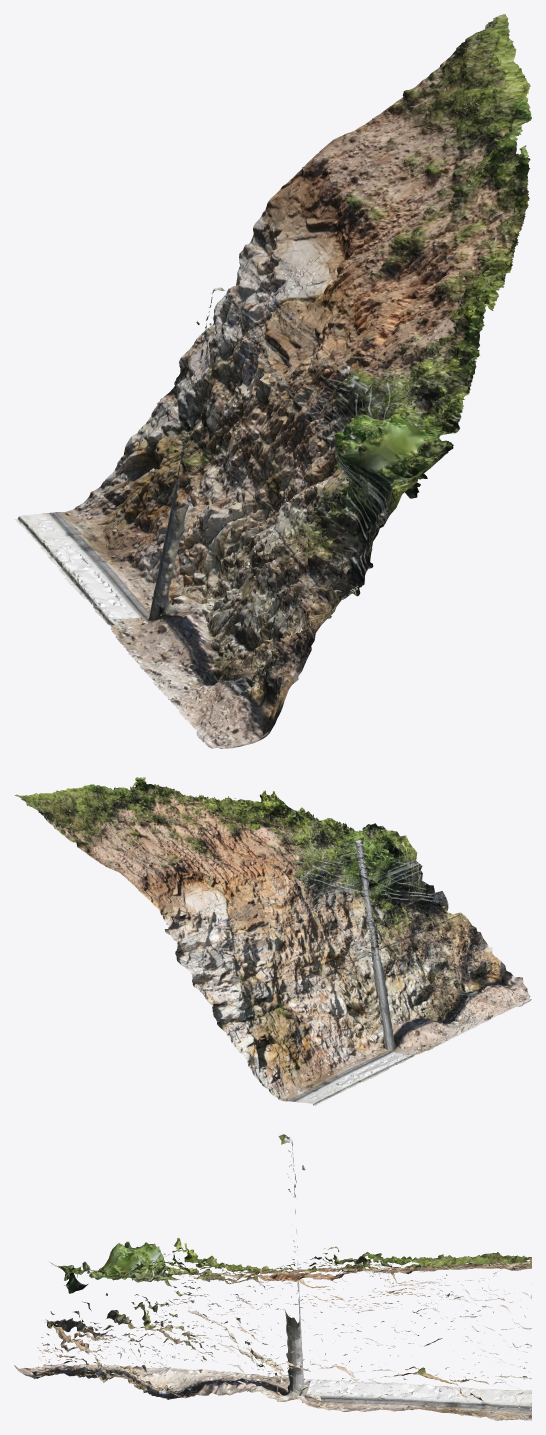
3 renders of one model, top to bottom at view 1: azimuth 30°, elevation 25°; view 2: azimuth 150°, elevation 25°; view 3: azimuth 270°, elevation 25°, orthographic. The views are drawn at different scales.
Bounding box in the file's own units: 22.1 × 14.78 × 19.62.
2 materials, 2 textured.
